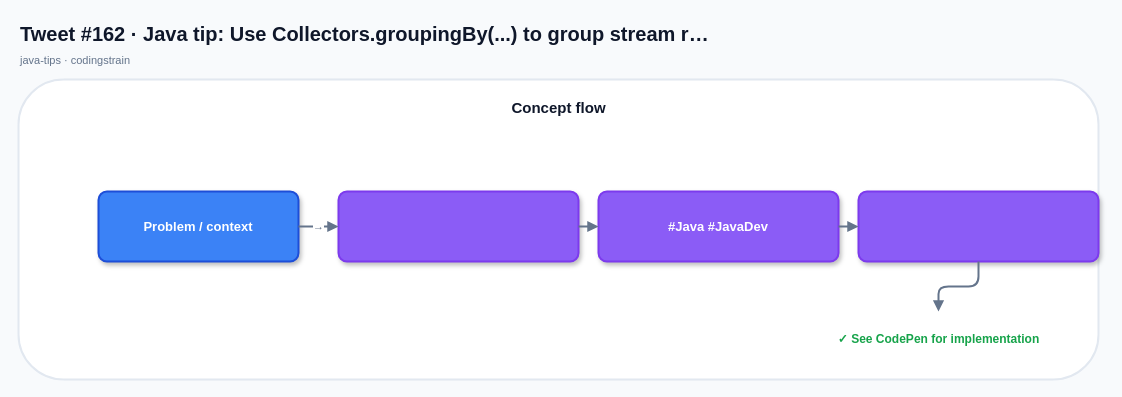
The diagram is 1122 pixels wide and 397 high, and some of its shapes have lost their labels. The centre of each missing label's shape, as x and y in pixels:
Runnable sample: `java-tips`: point 979,227
💡Java tip: Use Collectors.groupingBy(...) to group stream results by a: point 459,227
